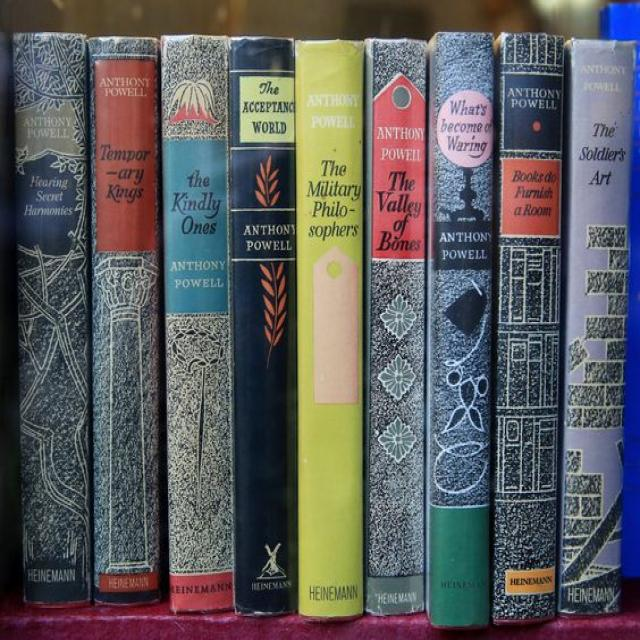book: (558, 39, 633, 616), (16, 38, 91, 606), (163, 36, 235, 611), (495, 33, 564, 623), (228, 39, 296, 613), (427, 32, 492, 628), (92, 37, 160, 604), (298, 43, 362, 616), (366, 38, 424, 614)
